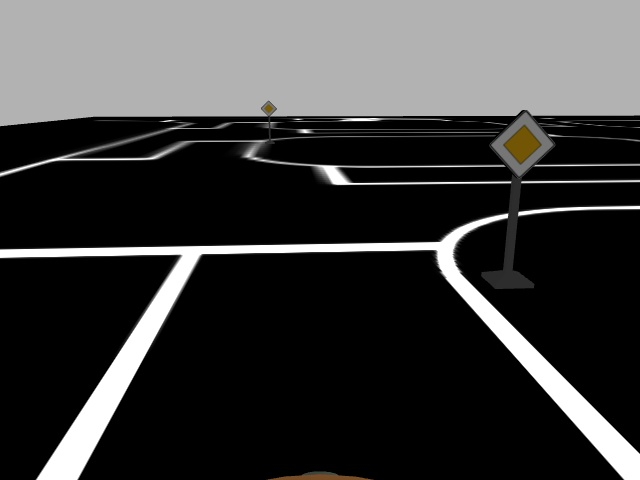priority: (490, 109, 553, 179), (259, 99, 278, 116)
